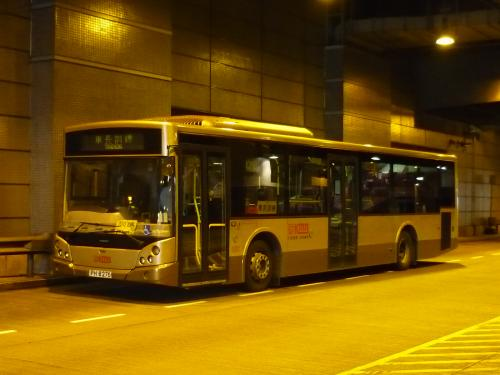bus: (61, 110, 468, 265)
